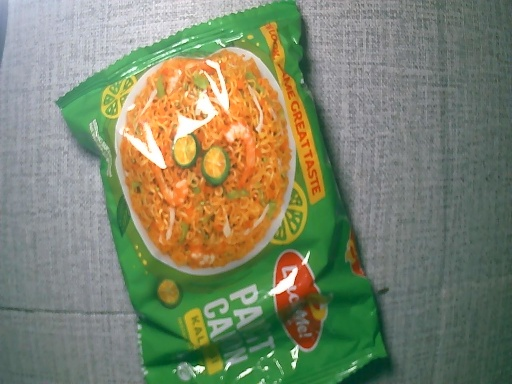plastic: (51, 2, 390, 384)
